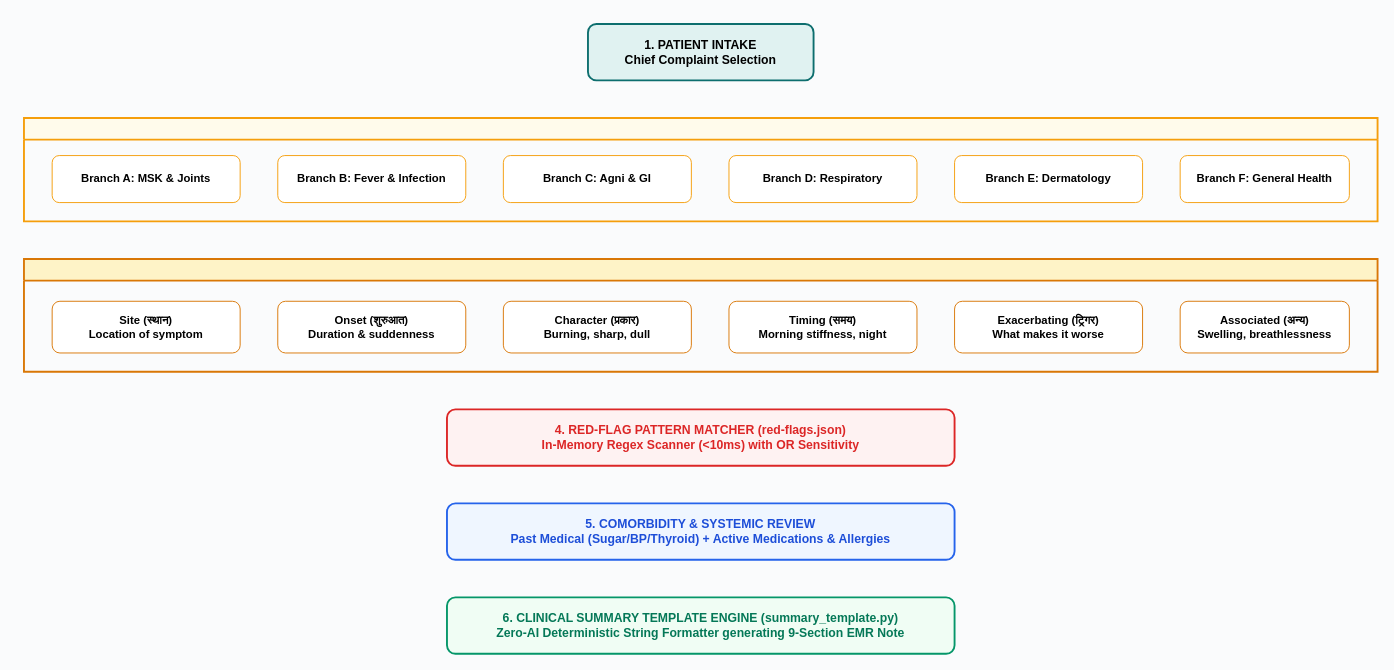
Image size: 1394x670. Some labels were removed from this diagram. The box of each missing label's shape, as (x1, y1, x2, y2) in pixels:
2. DETERMINISTIC CATEGORIZATION Decision Tree Lookup Table: (23, 117, 1378, 222)
3. SOCRATES QUESTION BANK (questions.json): (23, 258, 1378, 372)
